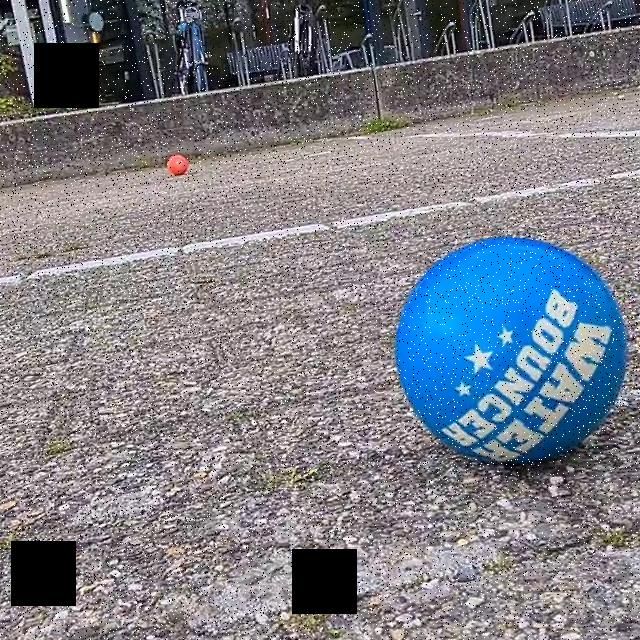ball: (163, 153, 190, 177)
